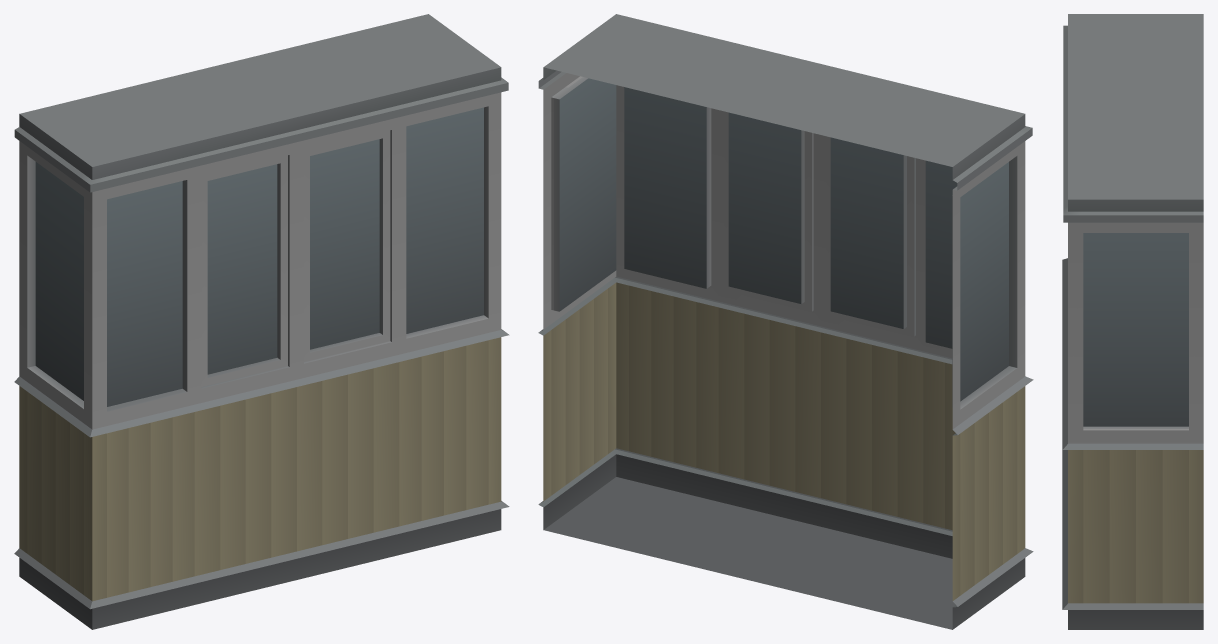
Rendered from The balcony is closed 6.fbx.
3 views of the same model, side by side, from view 1: azimuth 30°, elevation 25°; view 2: azimuth 150°, elevation 25°; view 3: azimuth 270°, elevation 25° (orthographic). The views are drawn at different scales.
Parts seen in each view (by area): view 1: Cube.089; view 2: Cube.089; view 3: Cube.089.
Part boxes in pixels (left/top/right/bottom): Cube.089: left=14, top=14, right=509, bottom=629; Cube.089: left=538, top=14, right=1033, bottom=629; Cube.089: left=1062, top=14, right=1203, bottom=629.
Size of the model in its own units: 692 by 730 by 217.
